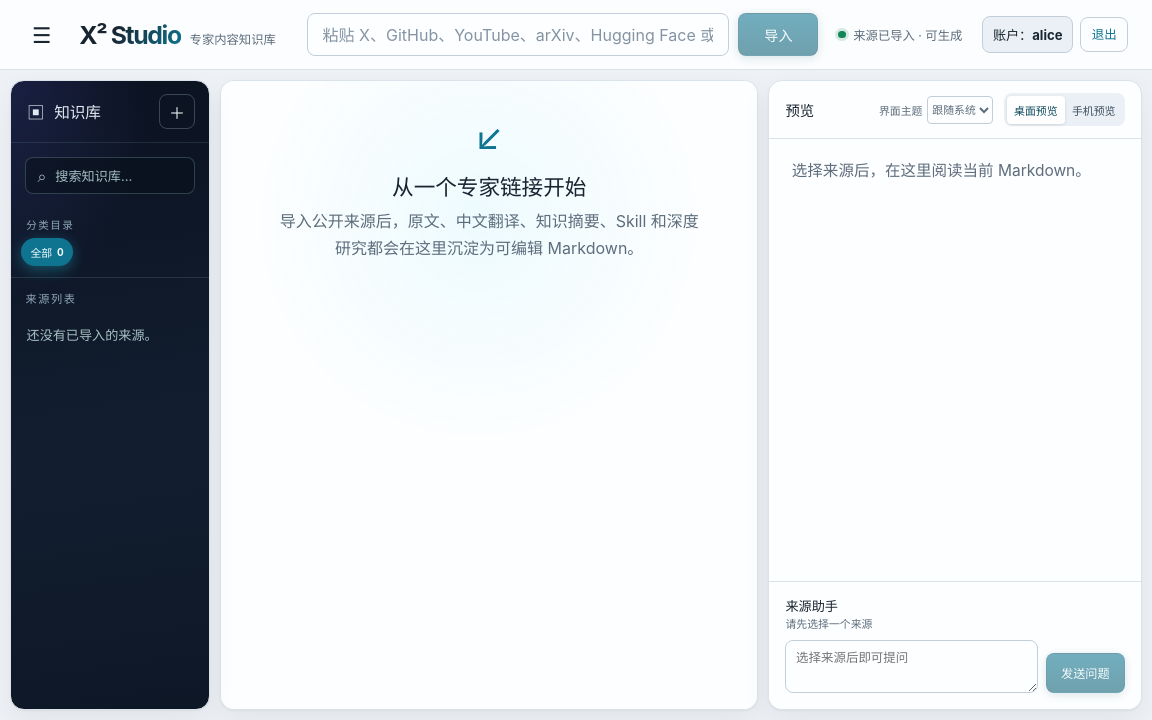
App › returns to login without exposing details when header logout fails
This screenshot has width=1152, height=720.
Check: the button named "打开知识库" is shown, box [24, 17, 59, 52]
Step 1. Click the button with aria-label "退出登录" → (1104, 34), box [1080, 17, 1128, 52]
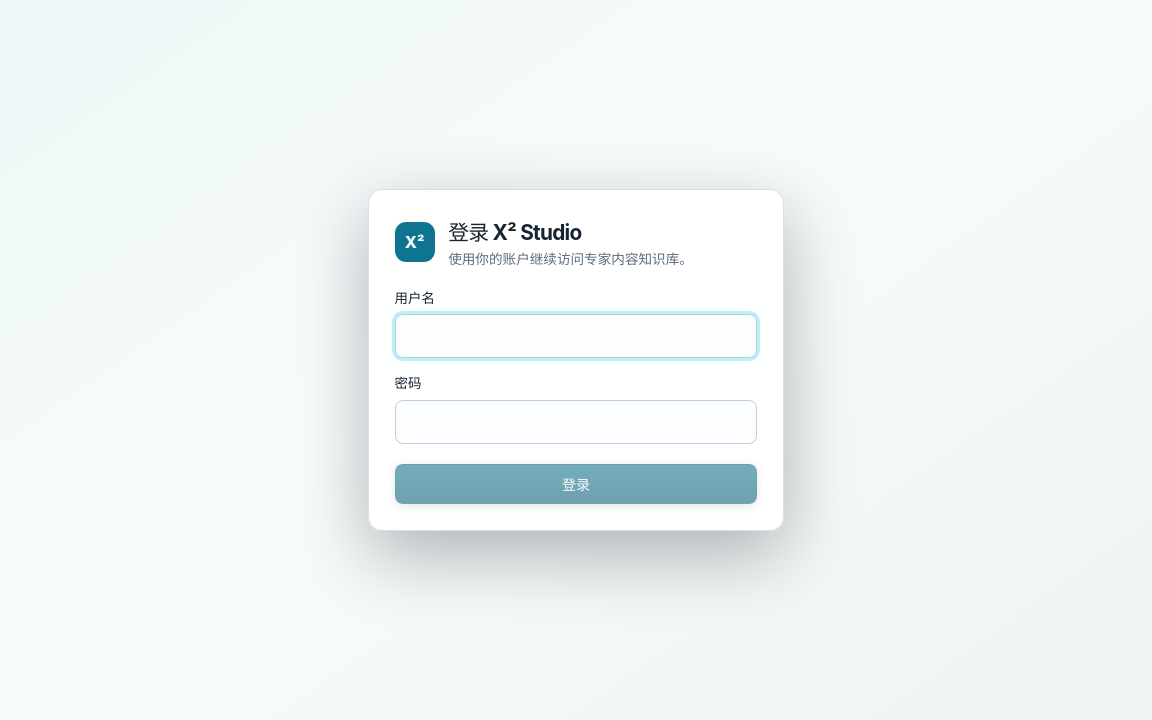
Check: the field labelled "用户名" is shown, box [395, 314, 757, 358]
Check: the button "打开知识库" is gone
